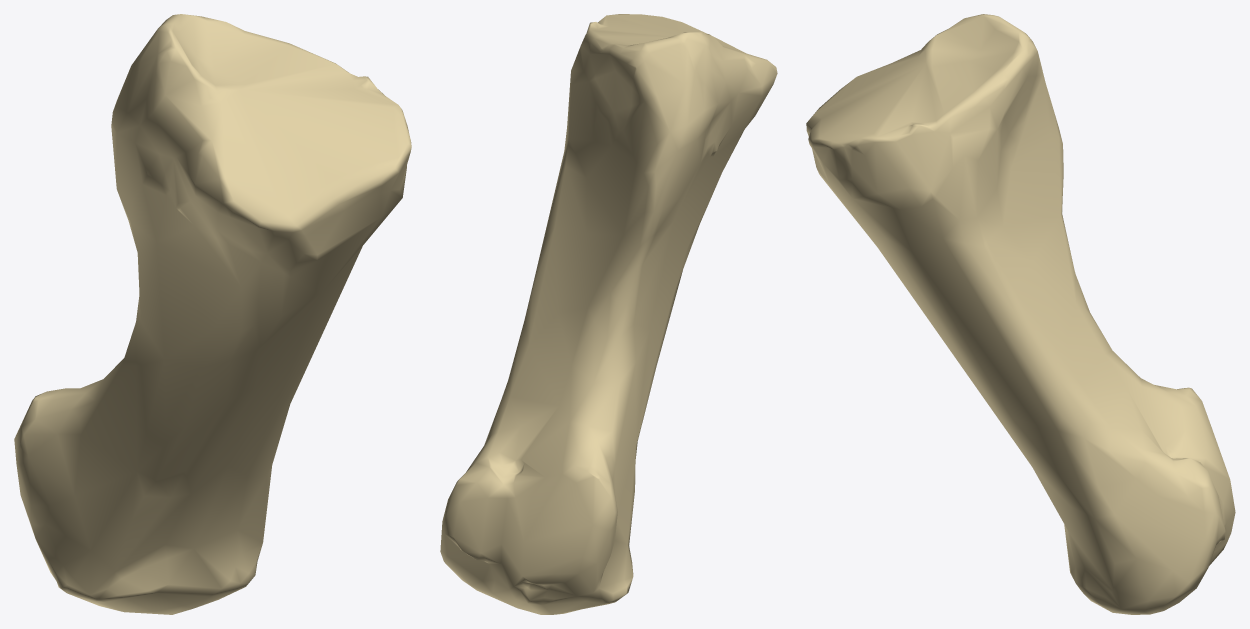
The picture shows the model from 3 angles, left to right: view 1: azimuth 30°, elevation 25°; view 2: azimuth 150°, elevation 25°; view 3: azimuth 270°, elevation 25°; orthographic projection. The views are drawn at different scales.
Parts seen in each view (by area): view 1: 右侧第一跖骨; view 2: 右侧第一跖骨; view 3: 右侧第一跖骨.
Part boxes in pixels (x1=…): 右侧第一跖骨: x1=14, y1=14, x2=411, y2=614; 右侧第一跖骨: x1=440, y1=14, x2=777, y2=614; 右侧第一跖骨: x1=806, y1=14, x2=1235, y2=614.
Size of the model in its own units: 0.0322 by 0.0937 by 0.0661.
